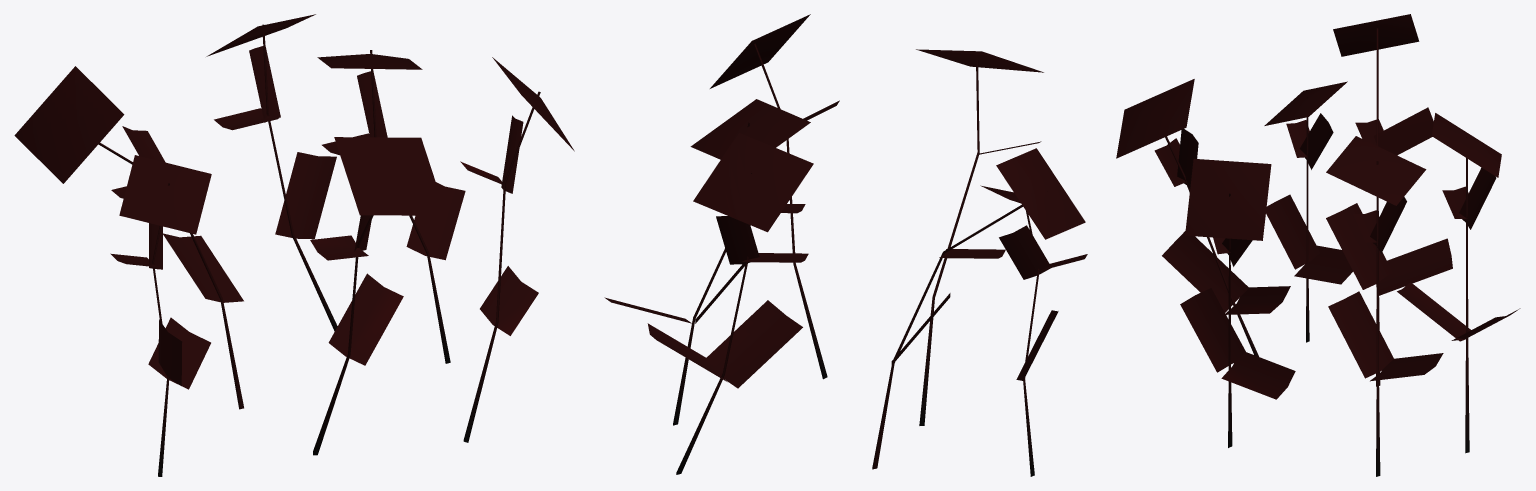
File: White Plant.fbx
The picture shows the model from 3 angles, left to right: view 1: azimuth 30°, elevation 25°; view 2: azimuth 150°, elevation 25°; view 3: azimuth 270°, elevation 25°; orthographic projection. The views are drawn at different scales.
Visible parts, largest first — view 1: White.004; view 2: White.004; view 3: White.004.
Boxes of the visible parts, x1,y1,x2,y2 form: White.004: (14,14,574,476); White.004: (604,14,1087,476); White.004: (1116,14,1520,476).
Bounding box in the file's own units: 99.09 × 77.62 × 89.66.
